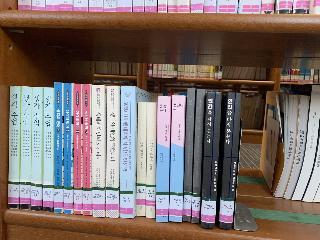book-spine: (219, 92, 242, 230), (200, 92, 222, 229), (119, 86, 135, 218), (169, 95, 185, 222), (191, 88, 206, 223), (155, 96, 171, 222), (18, 86, 33, 209), (105, 86, 118, 218), (30, 87, 43, 211), (183, 88, 195, 222), (8, 86, 21, 209), (92, 85, 104, 217), (145, 103, 157, 218), (43, 88, 54, 211), (136, 102, 147, 216), (63, 83, 72, 214), (82, 84, 91, 215), (54, 83, 63, 213), (74, 84, 82, 214)
